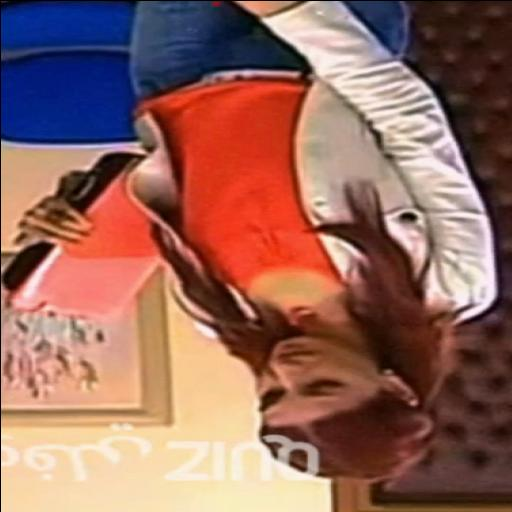Dalanda: (254, 327, 418, 425)
